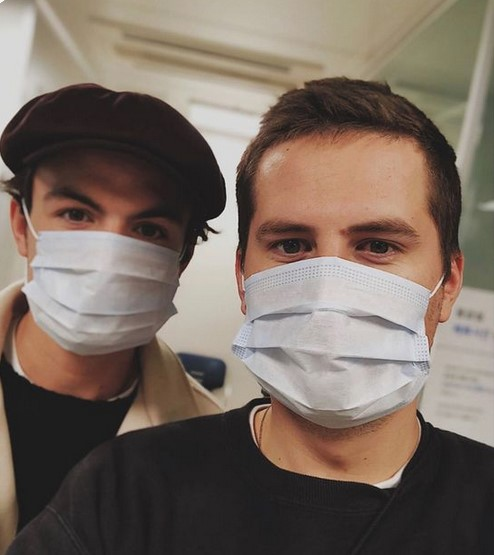face_with_mask: (237, 97, 466, 435), (6, 112, 205, 363)
